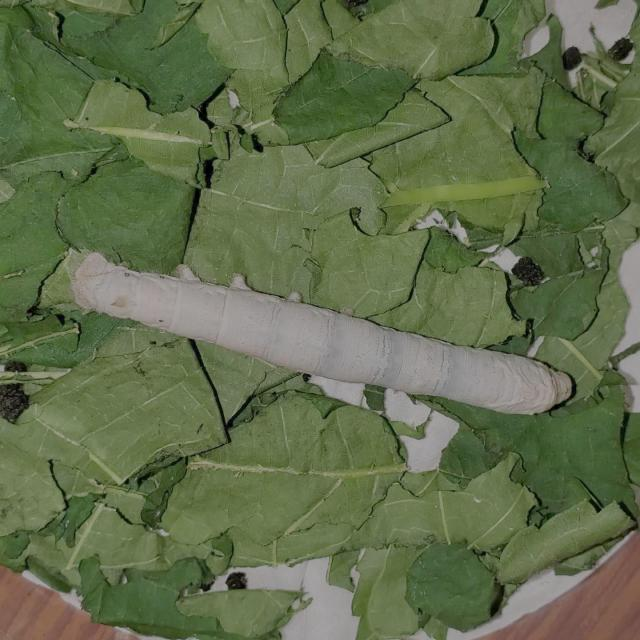Healthy: (33, 205, 583, 458)
